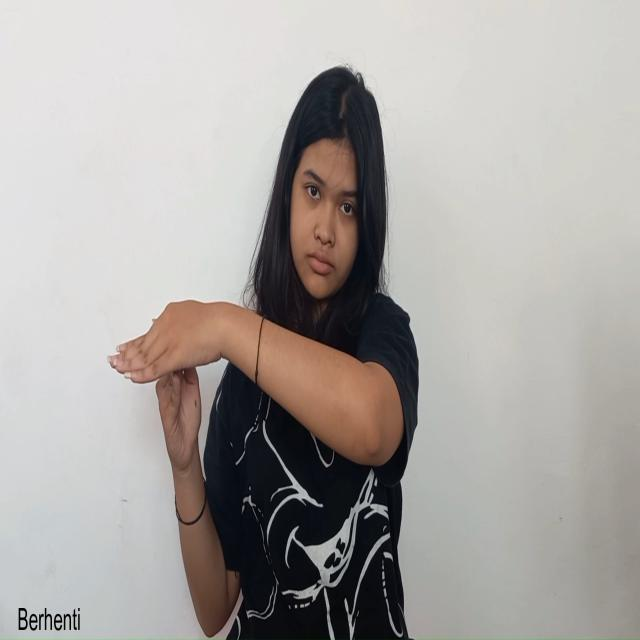Berhenti -BISINDO-: (105, 298, 232, 487)
